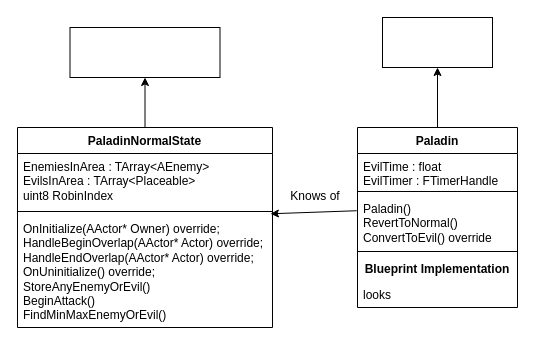
The diagram is 535 pixels wide and 348 high, and some of its shapes have lost their labels. The centre of each missing label's shape, as x and y in pixels:
"SentientPlaceable" goes at point (437, 42).
"«interface» SentientStateInterface" goes at point (144, 52).
